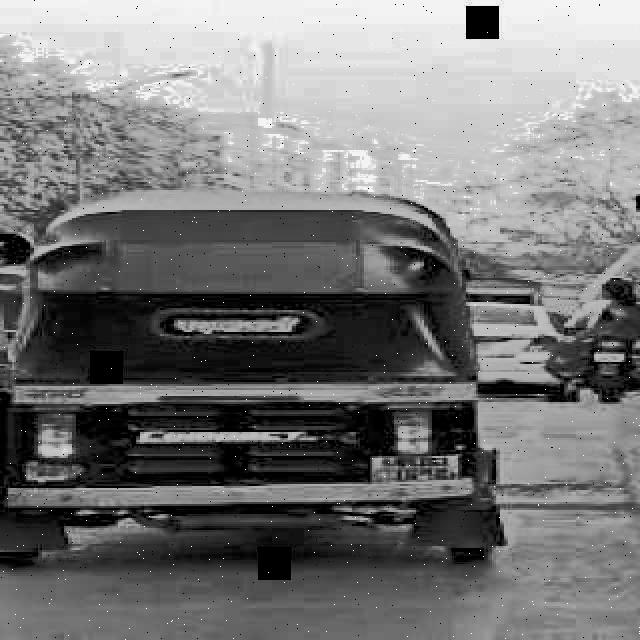Auto-Rickshaw: (40, 186, 502, 582)
